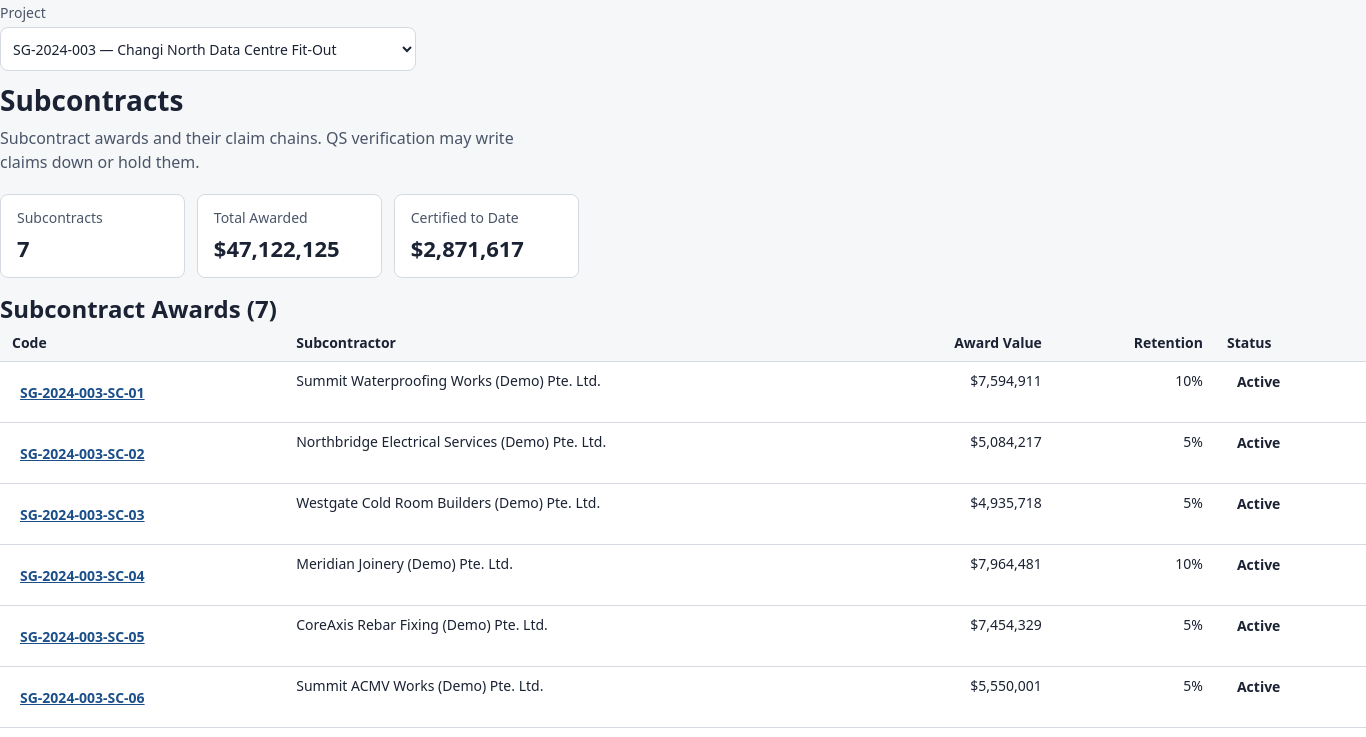
SubcontractsView (TASK-010) › subcon-overclaim projects show claims verified down
Click the button "SG-2024-003-SC-01" at (82, 392), box [12, 370, 153, 414]
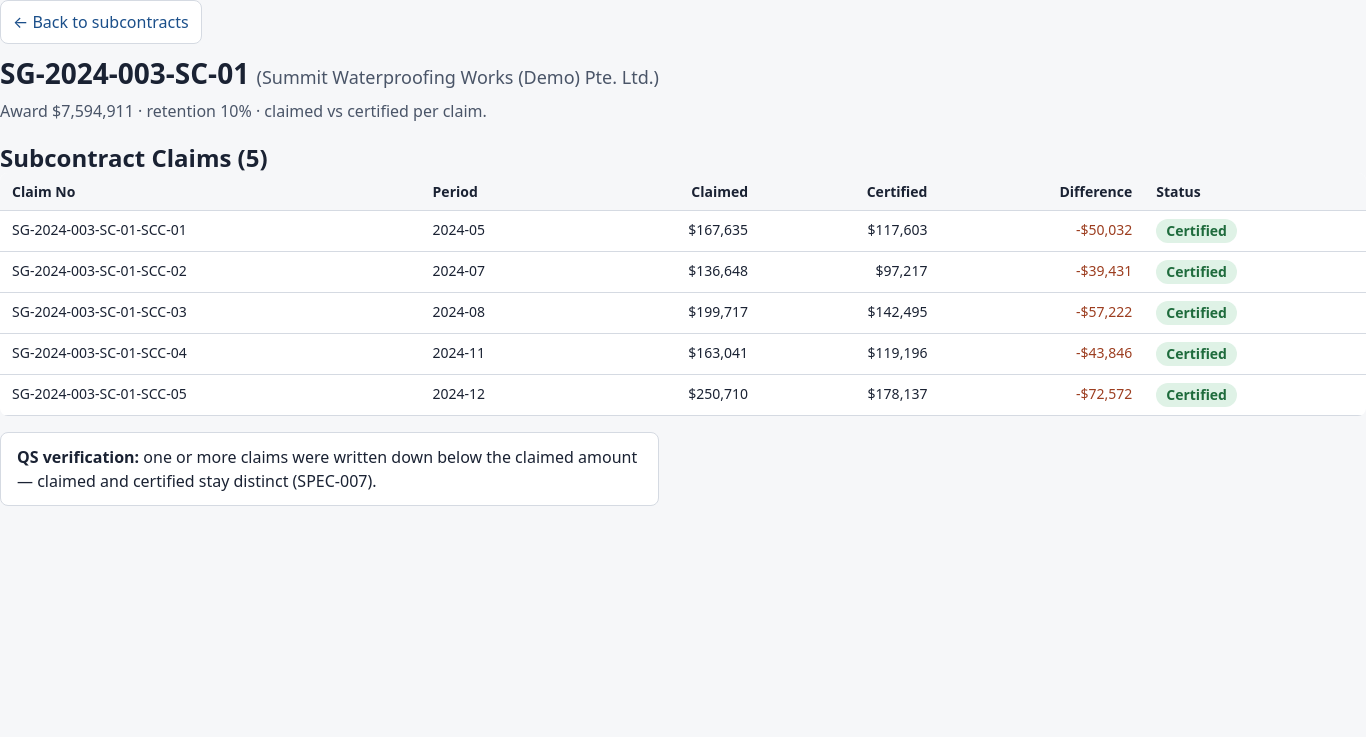
Now the message shows "written down", box [17, 446, 637, 492]
